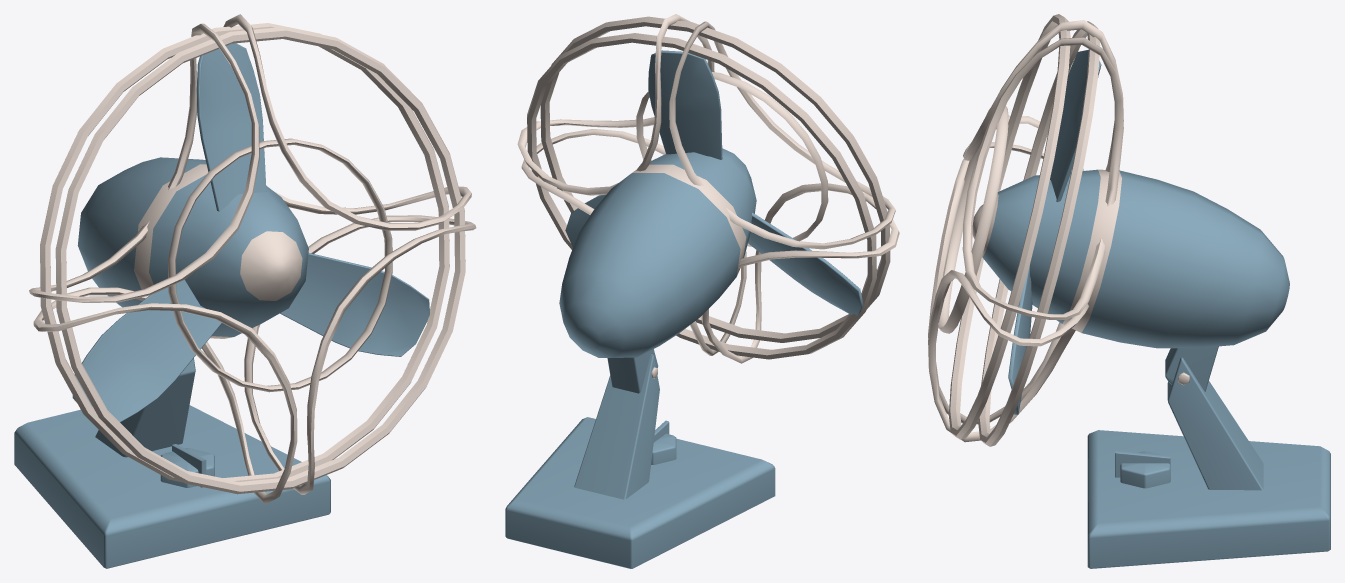
File: Ventilator_1.glb
The picture shows the model from 3 angles, left to right: view 1: azimuth 30°, elevation 25°; view 2: azimuth 150°, elevation 25°; view 3: azimuth 270°, elevation 25°; orthographic projection. The views are drawn at different scales.
Parts seen in each view (by area): view 1: Ventilator_1; view 2: Ventilator_1; view 3: Ventilator_1.
Part boxes in pixels (x1,y1,x2,y2): Ventilator_1: (14, 14, 476, 568); Ventilator_1: (505, 14, 899, 568); Ventilator_1: (928, 14, 1330, 568).
Size of the model in its own units: 0.3852 by 0.4462 by 0.3328.
1 material, 1 textured.
